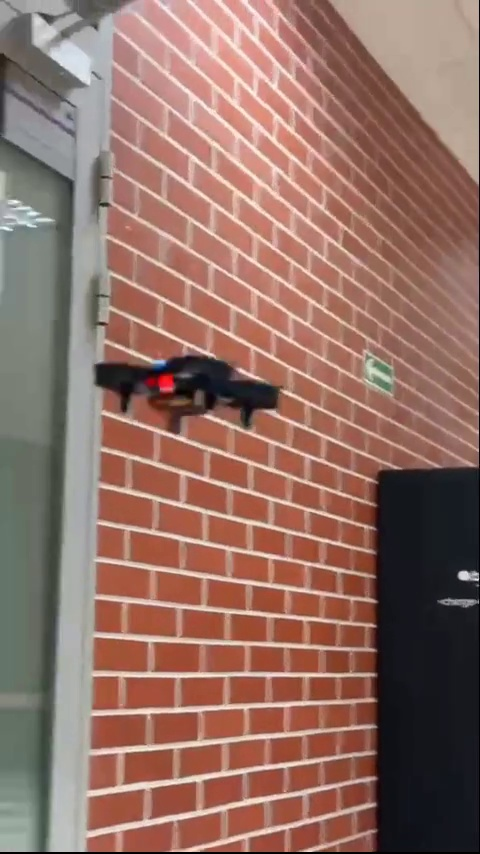drone: (92, 352, 275, 436)
